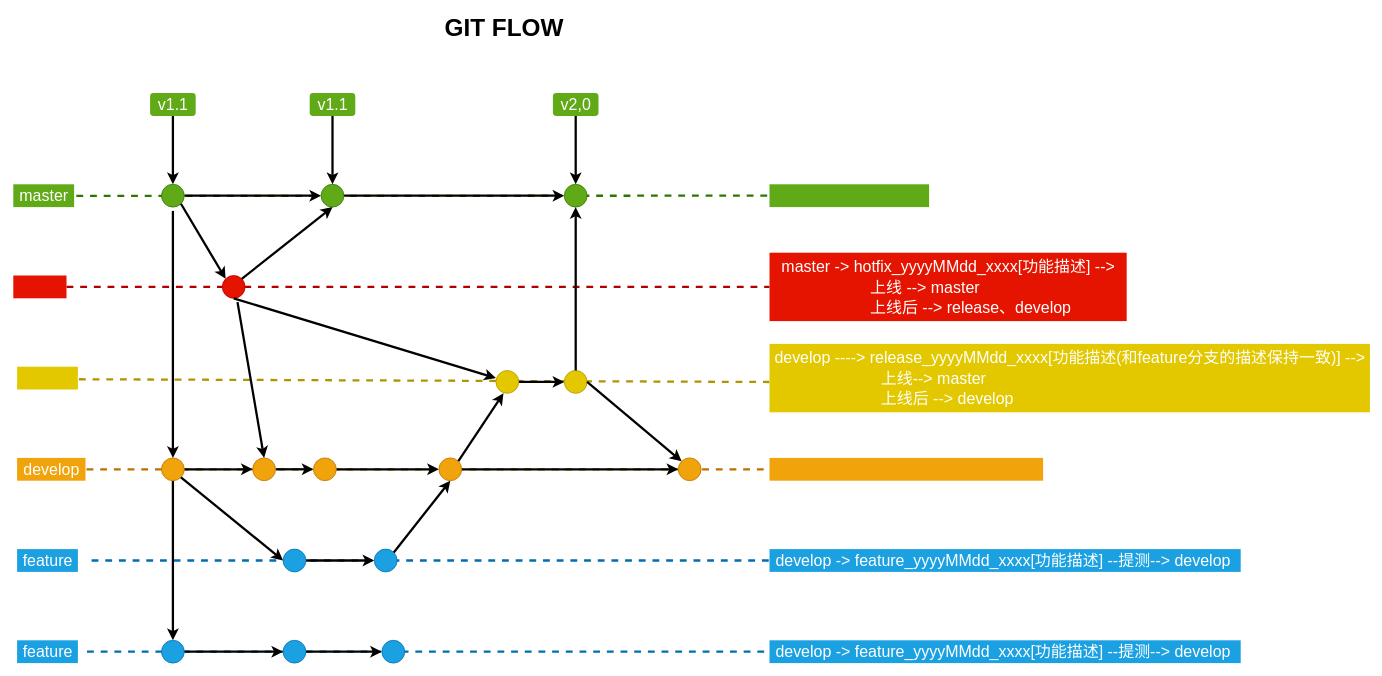
The diagram is 1382 pixels wide and 676 high, and some of its shapes have lost their labels. Here are the shapes that lost their labels. From the top down, the centre of each, then its label:
the point at 849,195: master -- tag --> tag
the point at 39,286: hotfix
the point at 47,377: release
the point at 906,469: develop 包含feature、release、hotfix
